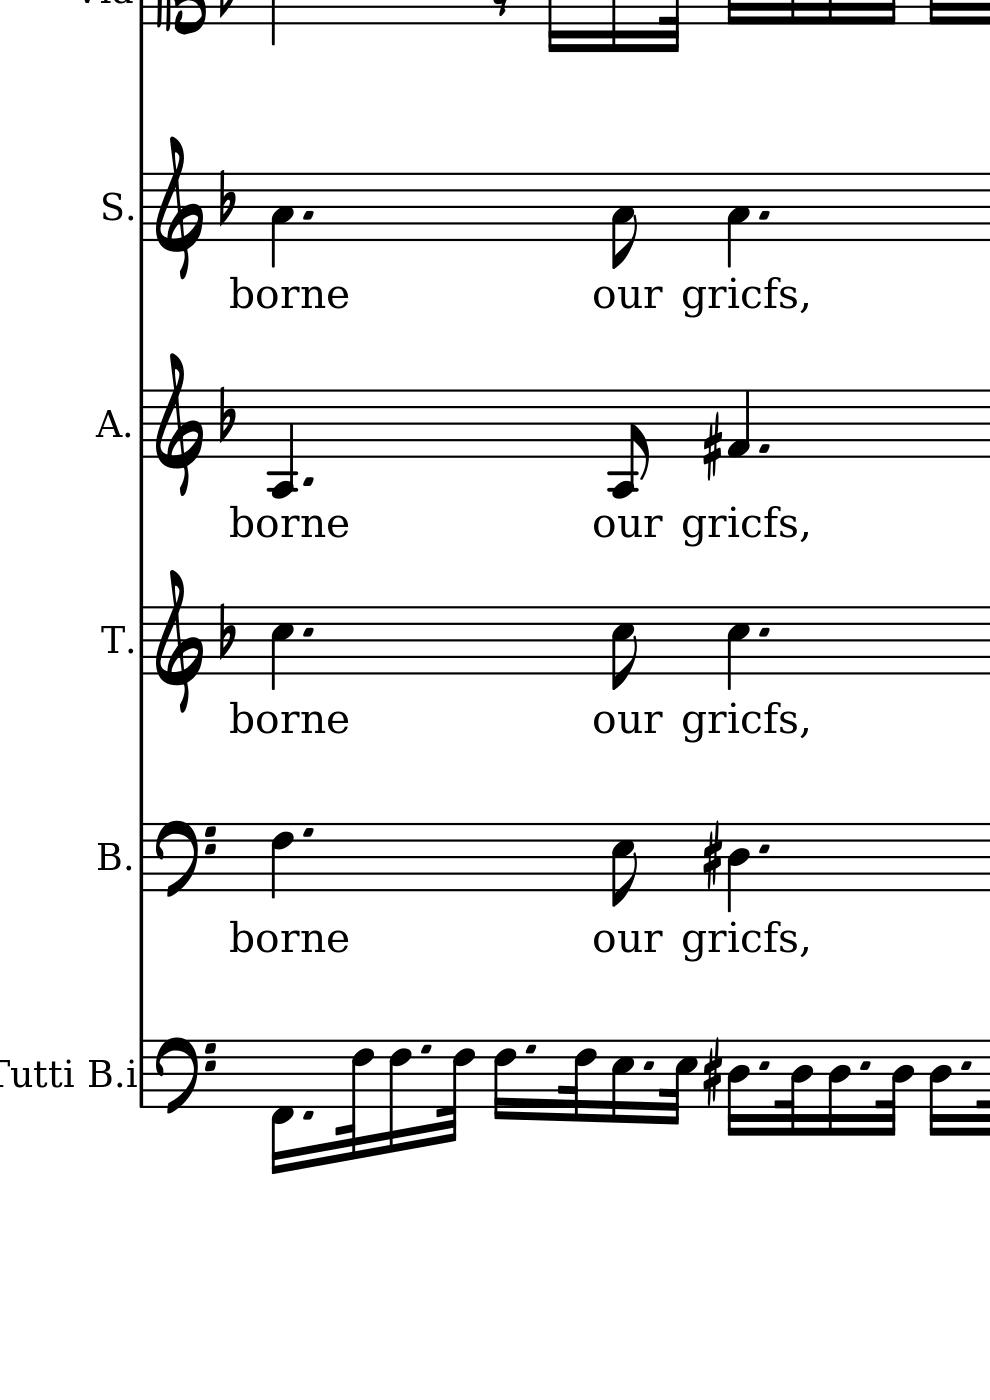16_-1: (271, 1035, 297, 1174)
16_4: (827, 1038, 854, 1138), (725, 1039, 750, 1139), (929, 1039, 954, 1138)
16_5: (610, 1039, 634, 1126)
16_6: (492, 1039, 517, 1121)
16_7: (388, 1039, 414, 1151)
32_4: (877, 1039, 916, 1136), (777, 1039, 813, 1138)
32_5: (662, 1040, 697, 1125)
32_6: (337, 1038, 374, 1161), (439, 1038, 476, 1144), (560, 1039, 596, 1121)
4_-4: (267, 387, 297, 503)
4_1: (727, 387, 751, 460)
4_3: (726, 171, 750, 268), (271, 172, 295, 267)
4_4: (726, 822, 754, 914)
4_5: (269, 605, 297, 690), (726, 605, 753, 692)
4_6: (271, 822, 298, 899)
8_-4: (610, 387, 650, 498)
8_3: (611, 171, 637, 271)
8_5: (610, 821, 640, 910), (611, 606, 639, 691)
Fclef: (156, 819, 226, 895), (156, 1037, 219, 1115)
Flat: (214, 602, 240, 659), (216, 169, 241, 227), (216, 383, 238, 442)
Gclef: (151, 347, 206, 493), (154, 567, 205, 713), (154, 134, 204, 280)
Sharp: (701, 413, 723, 481), (703, 821, 723, 888), (704, 1038, 722, 1107)
Single_barline: (134, 823, 151, 891), (134, 174, 151, 242), (135, 1040, 152, 1108), (135, 390, 151, 458), (136, 606, 151, 675)
dot: (640, 1058, 658, 1074), (300, 475, 317, 490), (418, 1039, 433, 1056), (857, 1058, 874, 1073), (756, 439, 771, 455), (756, 207, 772, 222), (756, 1058, 772, 1073), (756, 624, 771, 639), (301, 1108, 316, 1123), (959, 1058, 974, 1073), (756, 841, 772, 855), (300, 624, 315, 638), (522, 1042, 538, 1055), (300, 826, 314, 839), (300, 208, 315, 220)
